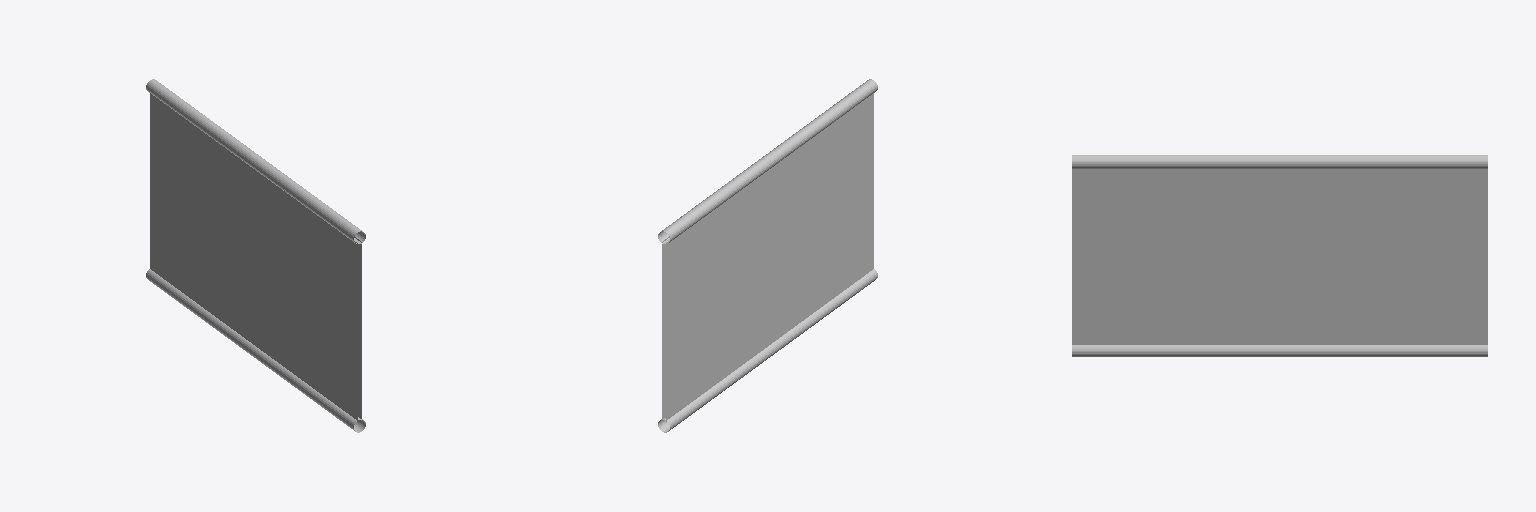
File: Prop_Track_Banner_Finish_Line_Center.obj
3 views of the same model, side by side, from view 1: azimuth 30°, elevation 25°; view 2: azimuth 150°, elevation 25°; view 3: azimuth 270°, elevation 25° (orthographic).
Visible parts, largest first — view 1: object4, object2, object1, object3; view 2: object4, object2, object1, object3; view 3: object3, object2, object1.
Boxes of the visible parts, <box> form: object4: <box>150,93,357,421</box>; object2: <box>146,79,365,243</box>; object1: <box>146,269,365,432</box>; object3: <box>354,236,361,418</box>; object4: <box>666,93,873,421</box>; object2: <box>658,79,877,243</box>; object1: <box>658,269,877,432</box>; object3: <box>662,236,669,418</box>; object3: <box>1072,169,1487,344</box>; object2: <box>1072,155,1487,168</box>; object1: <box>1072,345,1487,356</box>.
Bounding box in the file's own units: 0.0335 × 0.5338 × 1.